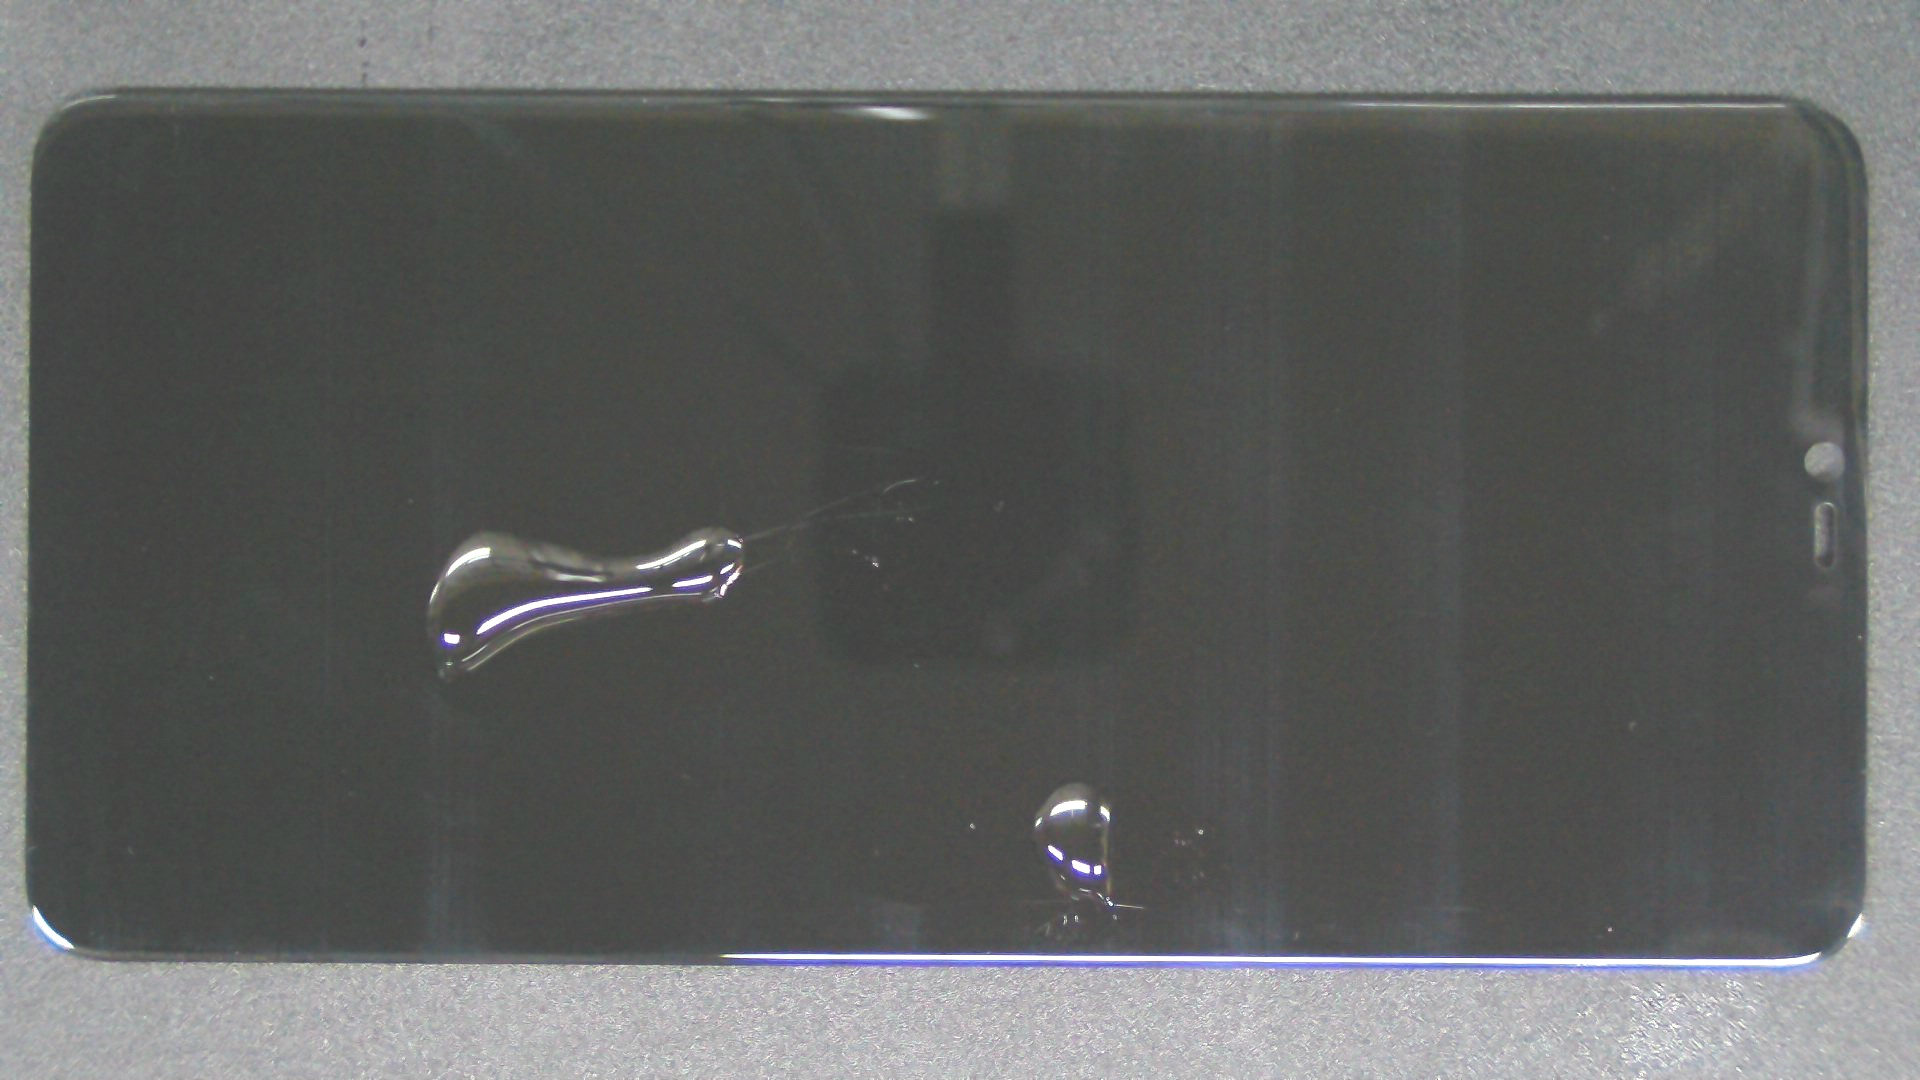oil: (538, 390, 1610, 1080), (361, 262, 1081, 789)
